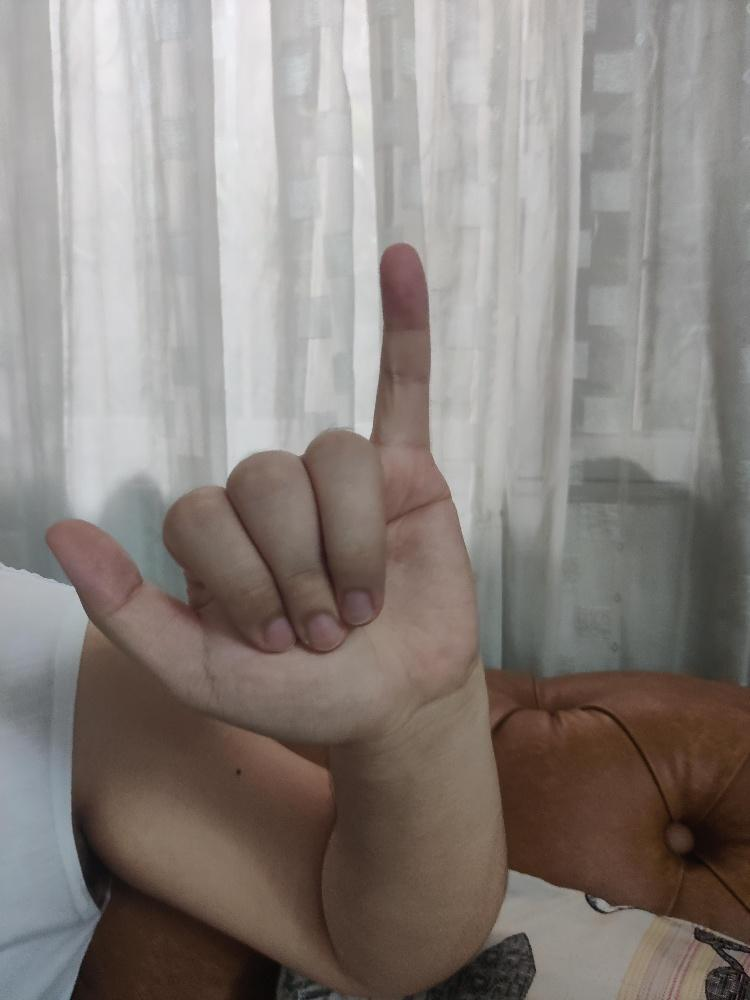y: (40, 238, 480, 745)
